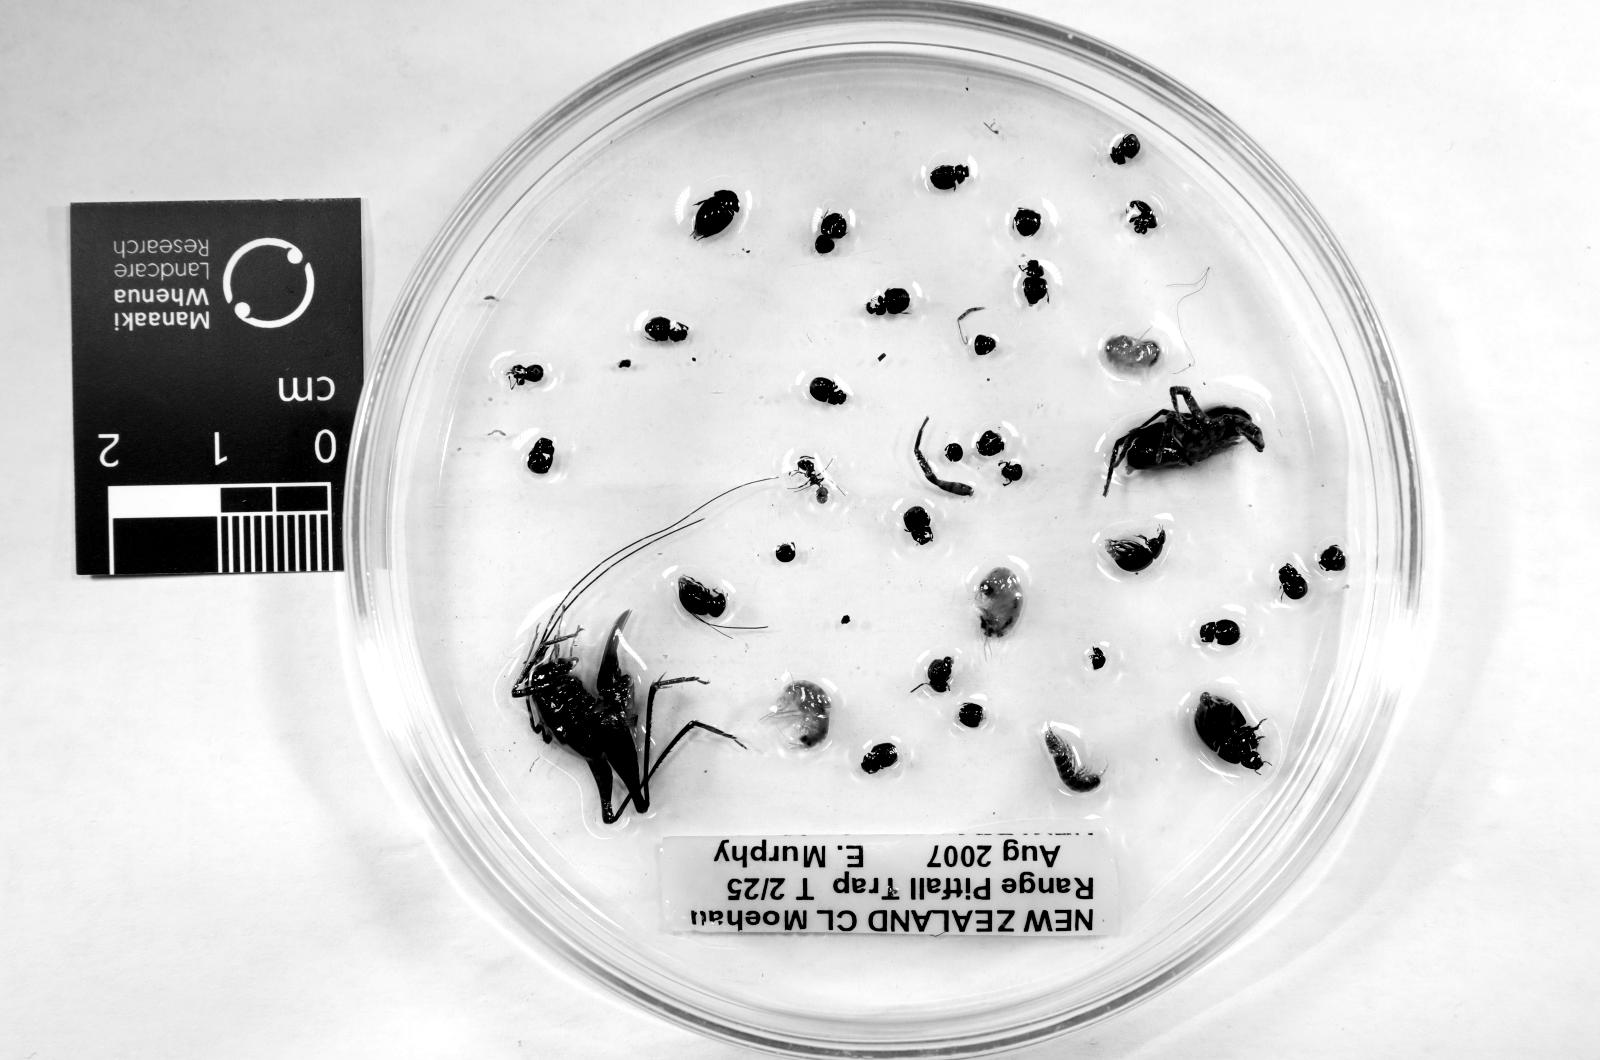amphipoda: (762, 680, 831, 748), (975, 568, 1022, 646), (1103, 335, 1159, 370)
araneae: (1103, 388, 1262, 497)
coleoptera: (1194, 693, 1266, 773), (1106, 531, 1166, 571), (694, 189, 741, 239), (678, 578, 728, 618), (903, 506, 934, 547), (866, 289, 909, 317), (1200, 618, 1241, 646), (644, 317, 688, 342), (862, 742, 897, 773), (1022, 261, 1047, 304), (1109, 134, 1141, 165), (1278, 565, 1306, 599), (928, 655, 953, 693), (809, 379, 847, 404), (931, 165, 969, 189), (1128, 202, 1156, 233), (1091, 649, 1106, 671)
formicidae: (797, 457, 828, 503)
isopoda: (1044, 730, 1100, 792)
orthoptera: (512, 509, 712, 823)
